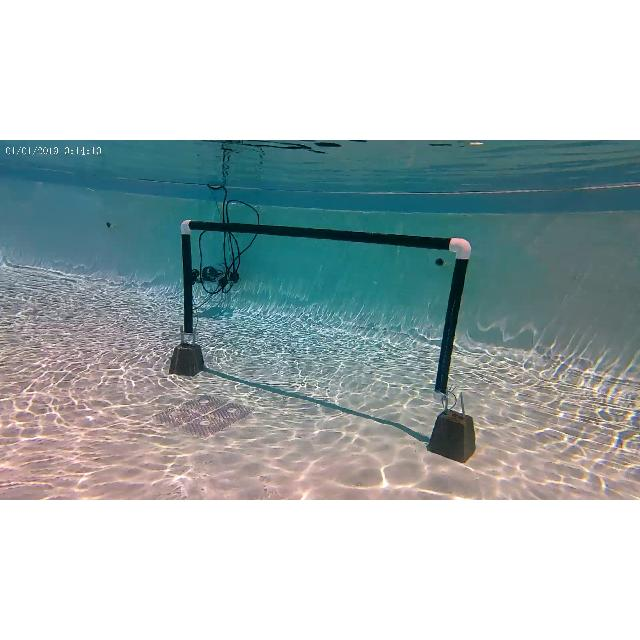prequal gate: (180, 218, 472, 402)
prequal gate leg l: (178, 216, 198, 340)
prequal gate leg r: (431, 231, 472, 401)
